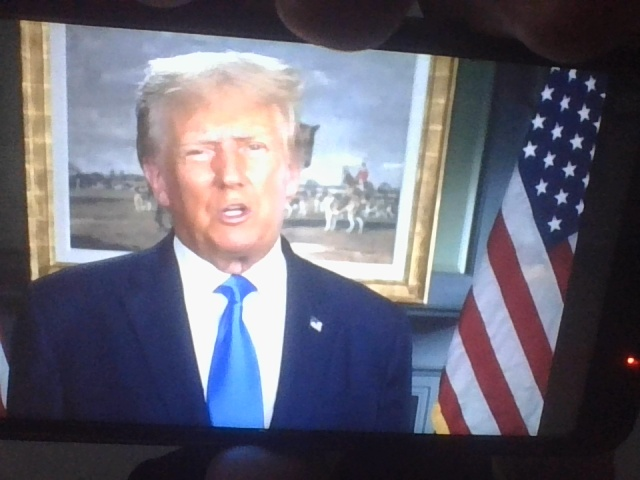fake: (149, 41, 309, 268)
